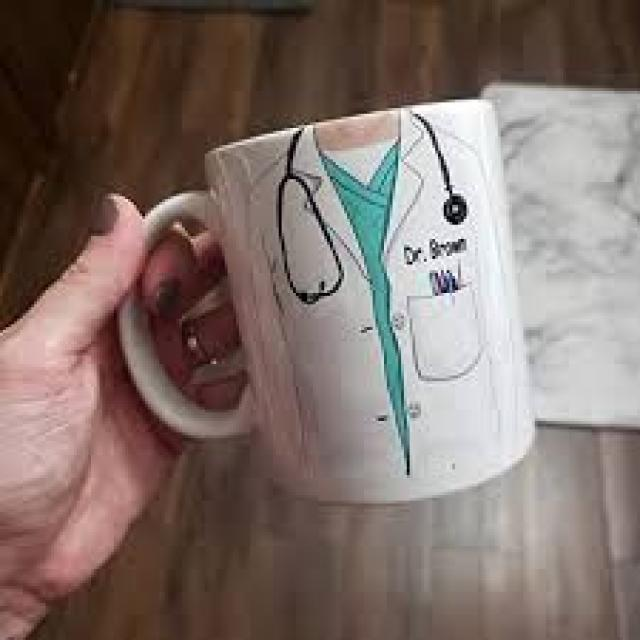taza: (90, 85, 550, 518)
